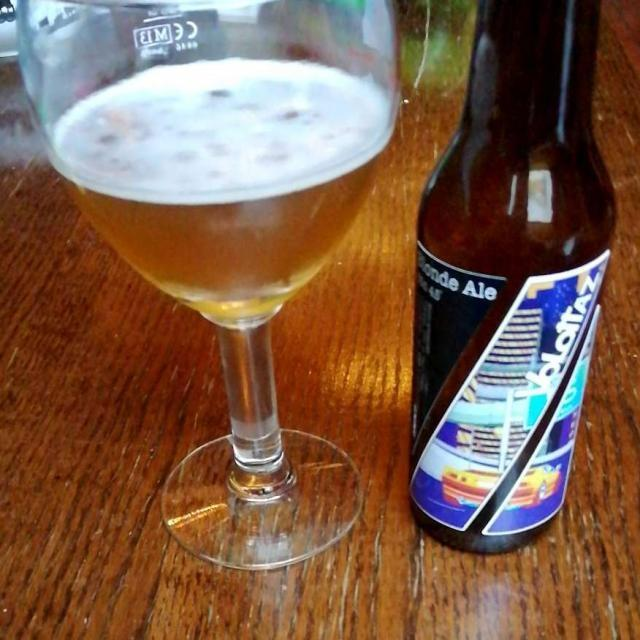beer: (49, 62, 404, 331)
